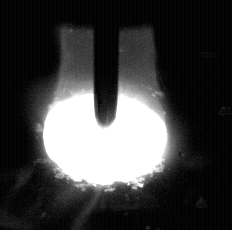arame: (95, 0, 119, 127)
poca: (42, 0, 168, 230)
